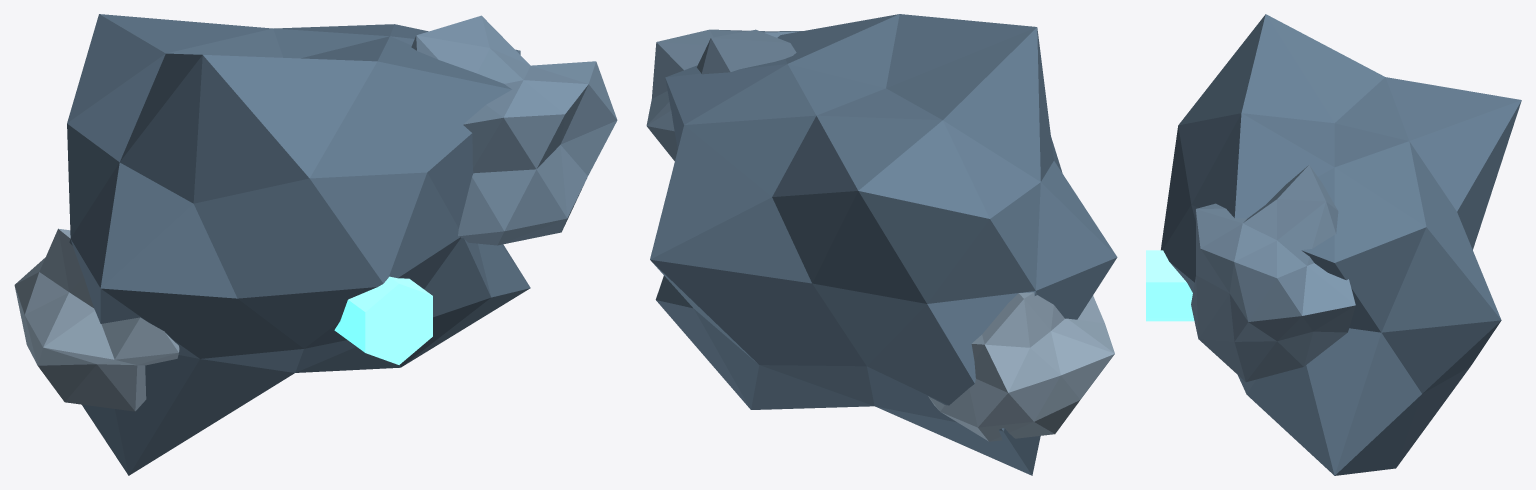
File: asteroid_1.glb
3 views of the same model, side by side, from view 1: azimuth 30°, elevation 25°; view 2: azimuth 150°, elevation 25°; view 3: azimuth 270°, elevation 25° (orthographic). The views are drawn at different scales.
Visible parts, largest first — view 1: asteroid | main mass, asteroid | satellite shard, asteroid | trailing fragment, asteroid | exposed crystal; view 2: asteroid | main mass, asteroid | trailing fragment, asteroid | satellite shard; view 3: asteroid | main mass, asteroid | satellite shard, asteroid | exposed crystal.
Boxes of the visible parts, left/top/right/bottom form: asteroid | main mass: left=67, top=14, right=530, bottom=475; asteroid | satellite shard: left=411, top=15, right=617, bottom=245; asteroid | trailing fragment: left=14, top=228, right=179, bottom=411; asteroid | exposed crystal: left=334, top=276, right=432, bottom=364; asteroid | main mass: left=650, top=14, right=1117, bottom=475; asteroid | trailing fragment: left=928, top=292, right=1114, bottom=441; asteroid | satellite shard: left=646, top=29, right=802, bottom=161; asteroid | main mass: left=1161, top=14, right=1521, bottom=475; asteroid | satellite shard: left=1191, top=165, right=1355, bottom=382; asteroid | exposed crystal: left=1146, top=250, right=1194, bottom=321.
Bounding box in the file's own units: 4.59 × 3.69 × 3.27.
